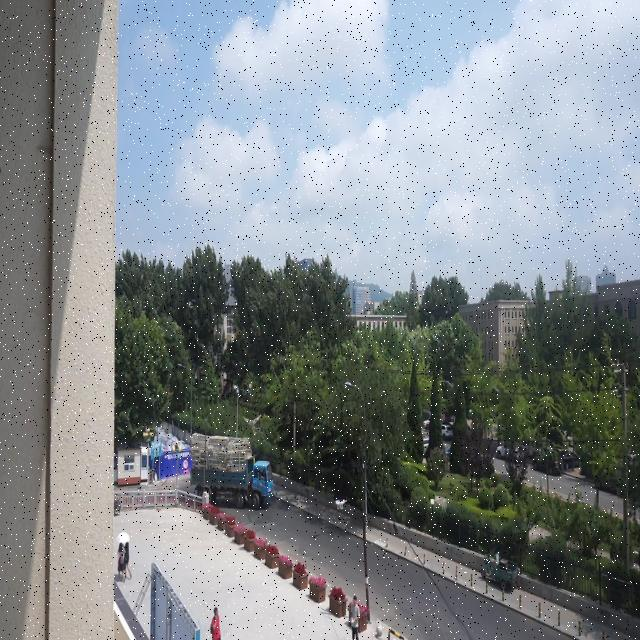UAV: (335, 499, 347, 510)
